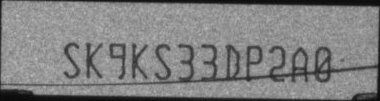0: (313, 45, 331, 83)
2: (269, 45, 286, 84)
3: (176, 42, 195, 82), (200, 43, 218, 82)
9: (109, 42, 126, 82)
A: (291, 46, 308, 83)
D: (225, 43, 240, 81)
K: (85, 41, 102, 79), (131, 43, 148, 80)
P: (246, 43, 262, 82)
S: (154, 42, 172, 80), (63, 42, 81, 79)
